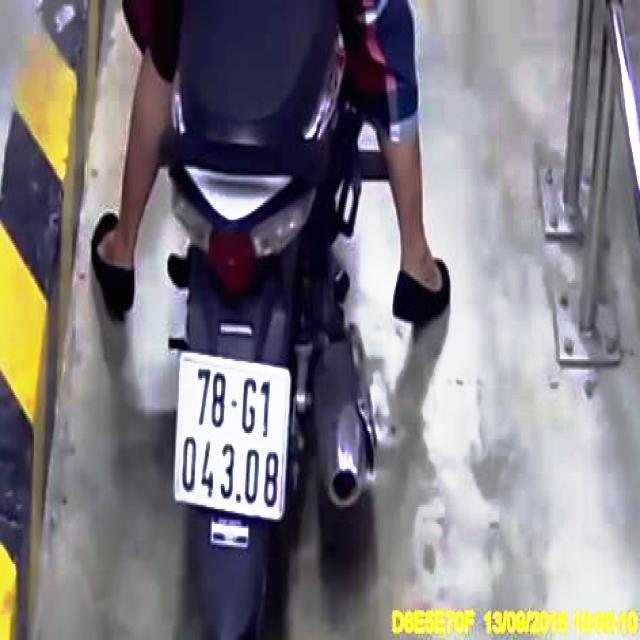license_plate: (173, 354, 290, 517)
